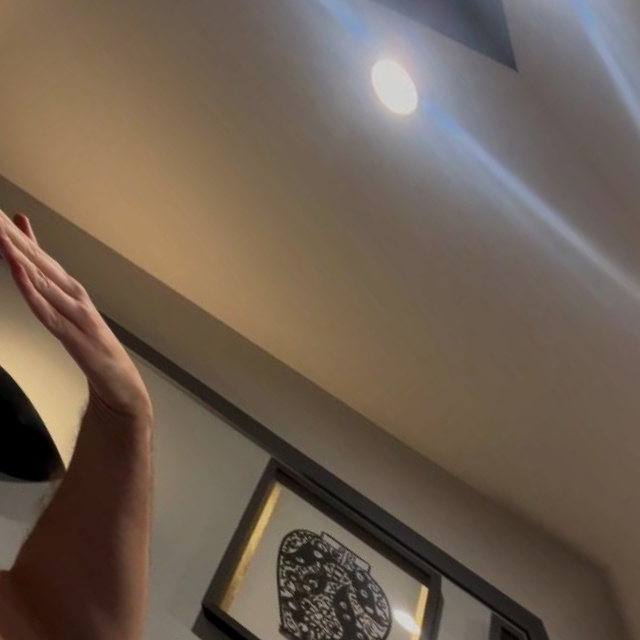Paper: (0, 169, 174, 436)
